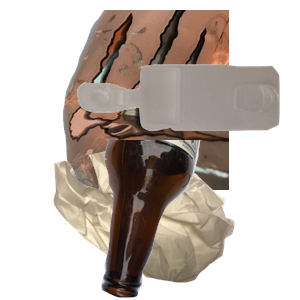glass: (99, 140, 300, 300)
metal: (60, 10, 300, 190)
plastic: (75, 62, 300, 186)
trash: (51, 142, 278, 300)
